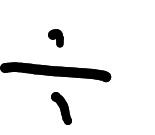div: (0, 22, 119, 129)
